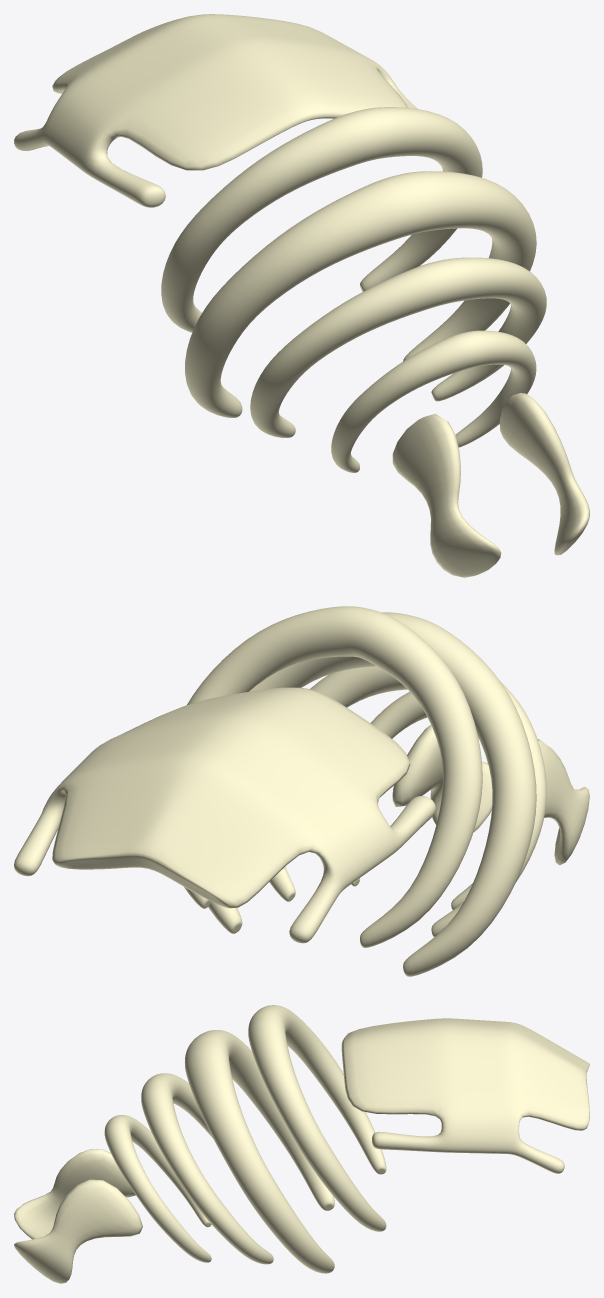
Rendered from ribcage.glb.
3 views of the same model, one above another, from view 1: azimuth 30°, elevation 25°; view 2: azimuth 150°, elevation 25°; view 3: azimuth 270°, elevation 25° (orthographic). The views are drawn at different scales.
Parts seen in each view (by area): view 1: Cube.040, Cylinder.005, Cylinder.004, Cylinder.006, Cube.039, Cylinder.007; view 2: Cube.040, Cylinder.004, Cylinder.005, Cube.039, Cylinder.006, Cylinder.007; view 3: Cube.040, Cylinder.005, Cylinder.004, Cube.039, Cylinder.006, Cylinder.007.
Boxes of the visible parts, left/top/right/bottom form: Cube.040: left=14, top=14, right=417, bottom=207; Cylinder.005: left=185, top=171, right=536, bottom=417; Cylinder.004: left=161, top=107, right=482, bottom=332; Cylinder.006: left=250, top=257, right=546, bottom=437; Cube.039: left=392, top=393, right=589, bottom=577; Cylinder.007: left=331, top=330, right=536, bottom=472; Cube.040: left=14, top=687, right=435, bottom=943; Cylinder.004: left=184, top=606, right=482, bottom=947; Cylinder.005: left=208, top=612, right=536, bottom=976; Cube.039: left=392, top=725, right=589, bottom=865; Cylinder.006: left=269, top=666, right=546, bottom=936; Cylinder.007: left=351, top=691, right=472, bottom=909; Cube.040: left=341, top=1018, right=589, bottom=1173; Cylinder.005: left=184, top=1030, right=334, bottom=1273; Cylinder.004: left=248, top=1005, right=386, bottom=1231; Cube.039: left=14, top=1149, right=142, bottom=1283; Cylinder.006: left=141, top=1073, right=273, bottom=1264; Cylinder.007: left=104, top=1115, right=211, bottom=1262.
Bounding box in the file's own units: 0.6473 × 0.6442 × 1.34.
Materials: 1 (1 with a texture image).
